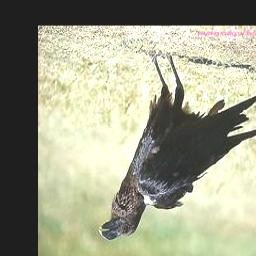Crow: (98, 52, 256, 242)
